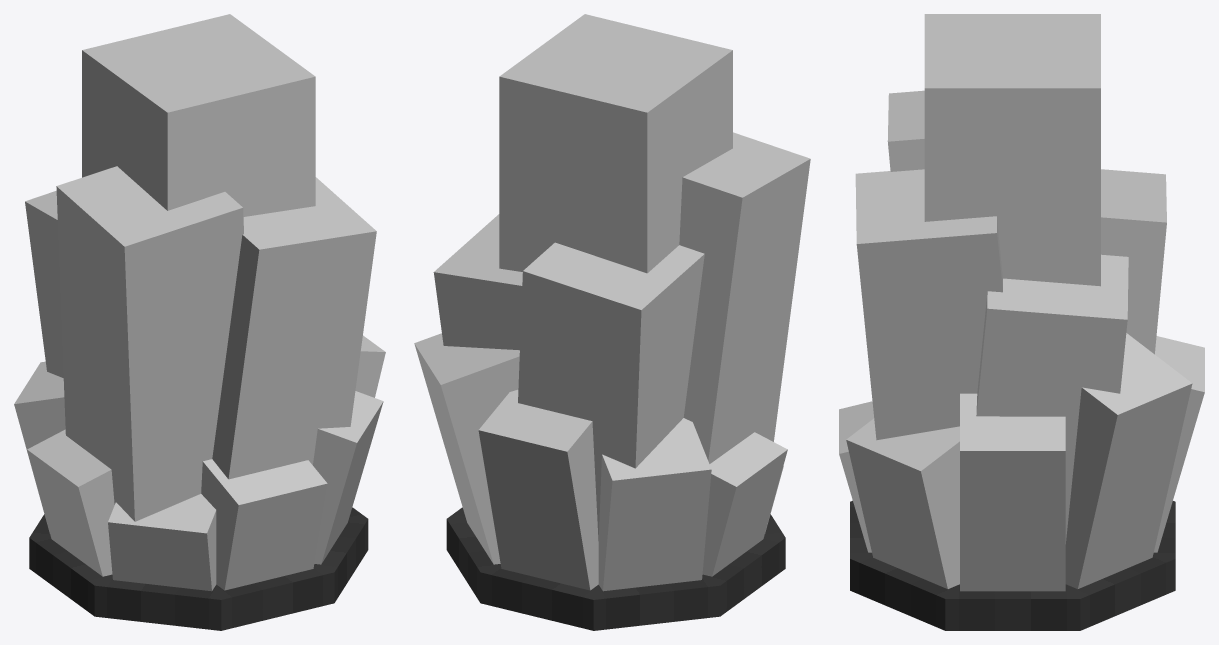
Rendered from chimerite_crystal.obj.
3 views of the same model, side by side, from view 1: azimuth 30°, elevation 25°; view 2: azimuth 150°, elevation 25°; view 3: azimuth 270°, elevation 25° (orthographic). The views are drawn at different scales.
Parts seen in each view (by area): view 1: CRYSTAL; view 2: CRYSTAL; view 3: CRYSTAL.
Boxes of the visible parts, x1,y1,x2,y2 form: CRYSTAL: [14, 14, 385, 630]; CRYSTAL: [414, 14, 810, 630]; CRYSTAL: [839, 14, 1204, 630].
Size of the model in its own units: 0.649 by 1 by 0.649.
